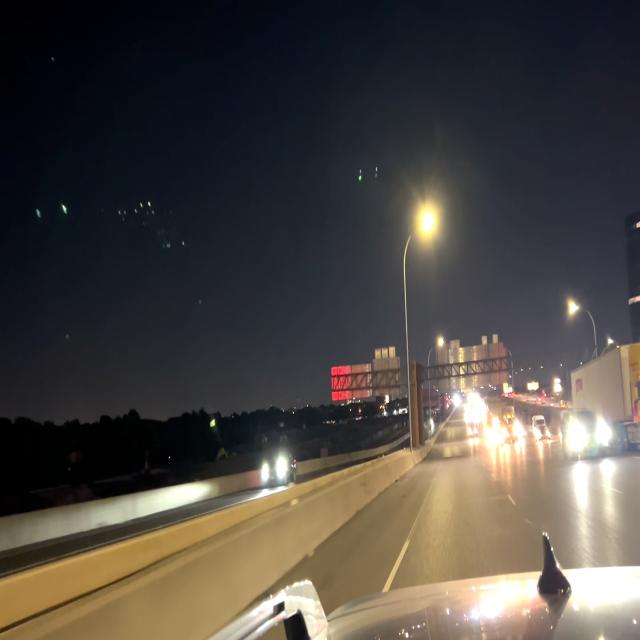back-of-sign: (435, 335, 509, 391), (332, 346, 402, 405)
